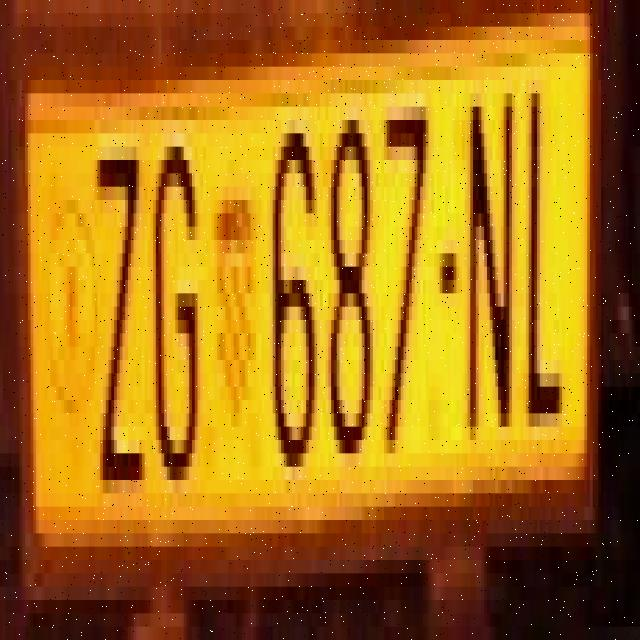6: (264, 100, 318, 487)
7: (378, 87, 428, 460)
8: (325, 93, 373, 467)
G: (150, 120, 200, 493)
L: (523, 60, 565, 433)
N: (463, 80, 516, 440)
Z: (93, 126, 146, 486)
